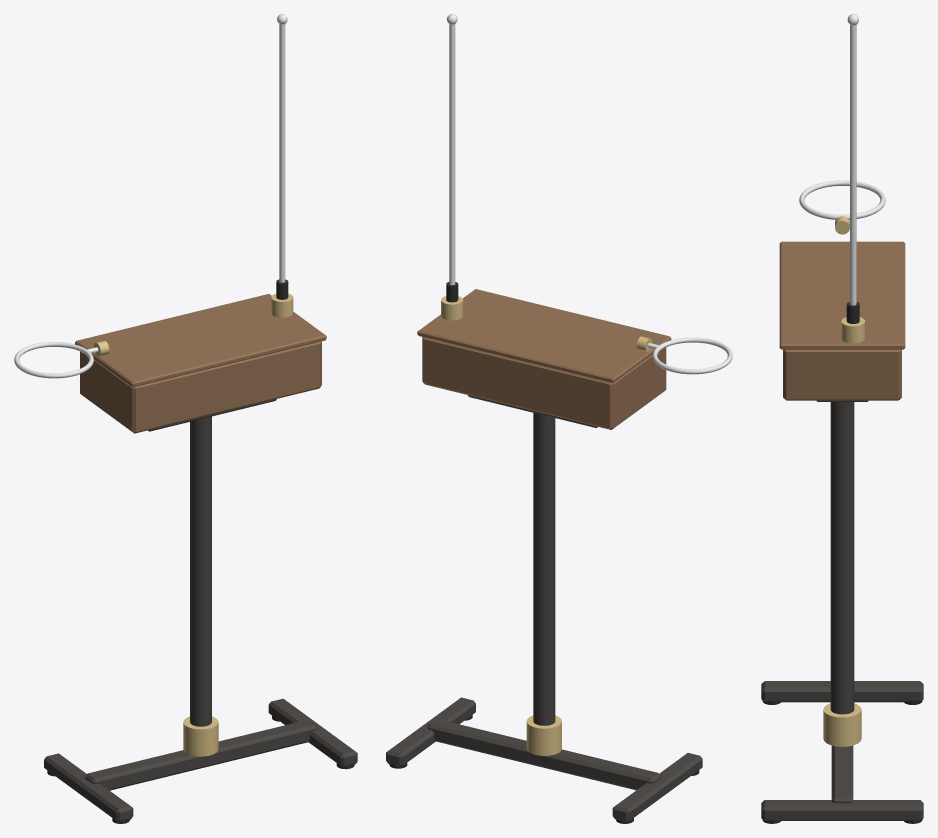
Rendered from theremin.glb.
3 renders of one model, left to right at view 1: azimuth 30°, elevation 25°; view 2: azimuth 150°, elevation 25°; view 3: azimuth 270°, elevation 25°, orthographic. The views are drawn at different scales.
Visible parts, largest first — view 1: Theremin; view 2: Theremin; view 3: Theremin.
Boxes of the visible parts, x1,y1,x2,y2 form: Theremin: (14, 14, 357, 823); Theremin: (386, 14, 732, 823); Theremin: (761, 14, 923, 823).
Size of the model in its own units: 0.7 by 1.61 by 0.3.
